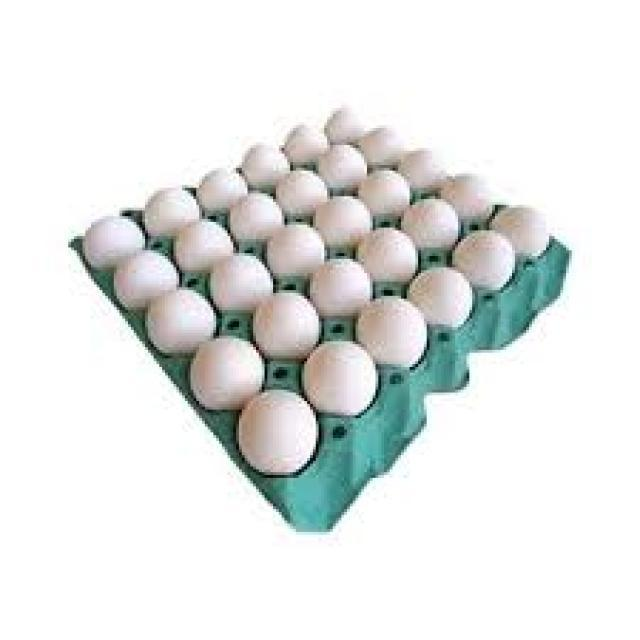egg: (235, 386, 337, 472), (130, 289, 242, 358), (348, 296, 446, 372), (435, 214, 523, 296), (70, 214, 172, 276), (205, 248, 291, 314), (244, 289, 330, 355), (193, 331, 274, 401), (404, 259, 486, 325), (304, 336, 378, 406), (478, 182, 552, 252), (138, 182, 220, 242), (300, 262, 375, 316), (308, 188, 377, 243), (262, 222, 326, 281), (108, 248, 184, 296), (229, 134, 304, 182), (360, 224, 418, 286), (162, 220, 240, 266), (317, 102, 383, 154), (430, 161, 496, 213), (398, 194, 460, 248), (268, 162, 326, 210), (270, 114, 330, 158), (355, 170, 412, 214), (230, 187, 274, 239), (314, 140, 366, 182), (359, 128, 412, 166), (396, 148, 447, 178), (204, 162, 230, 202)
